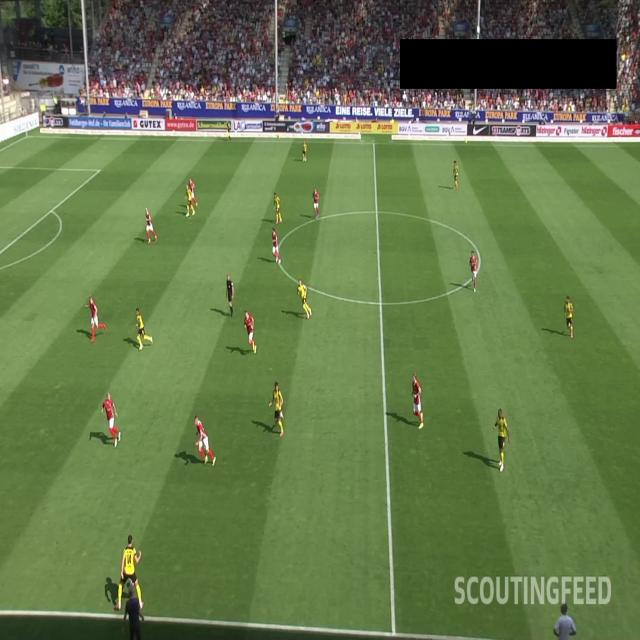ball: (127, 571, 137, 592)
player: (114, 532, 146, 611), (491, 405, 514, 472), (192, 411, 217, 466), (100, 390, 122, 450), (84, 290, 107, 344), (408, 370, 426, 434), (130, 306, 155, 352), (266, 377, 285, 436), (295, 274, 312, 324), (242, 310, 258, 355), (563, 292, 577, 337), (142, 206, 158, 244), (468, 248, 480, 296), (270, 225, 281, 266), (272, 189, 284, 225), (183, 184, 196, 217), (187, 175, 199, 210), (450, 159, 460, 191), (311, 186, 321, 218), (301, 138, 309, 162)
referee: (223, 270, 236, 318), (224, 114, 234, 140)
